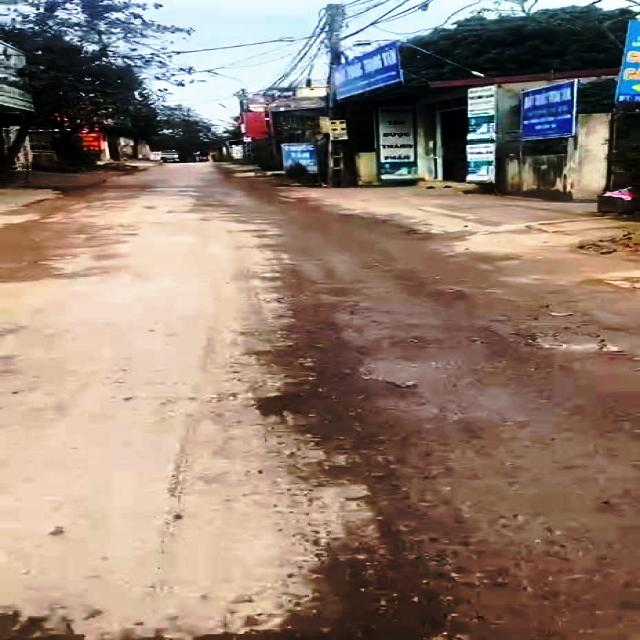pothole: (262, 545, 469, 640), (293, 347, 427, 406), (512, 329, 623, 356), (256, 389, 314, 419)
